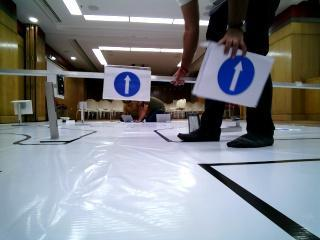straight: (215, 42, 263, 108), (103, 67, 152, 104)
